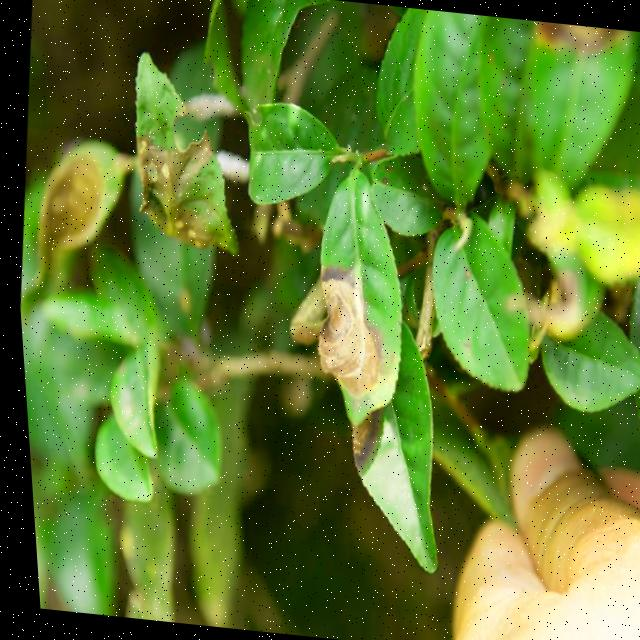Tea cloud leaf blight: (300, 260, 397, 406)
